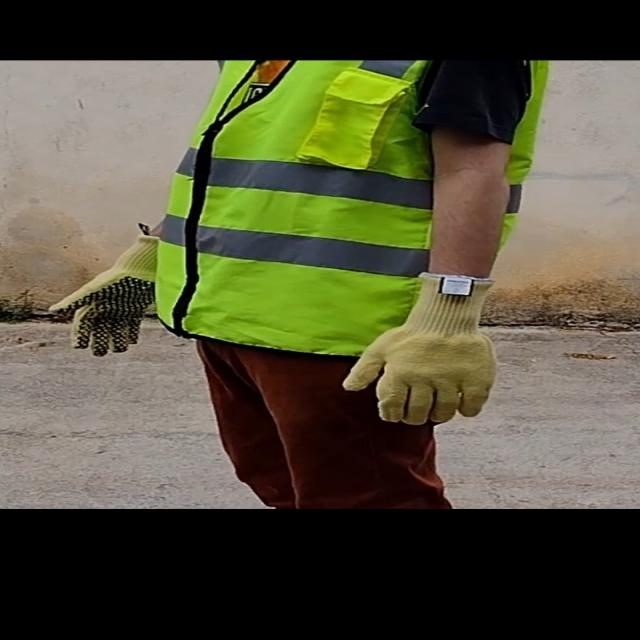glove: (344, 266, 499, 422), (43, 232, 172, 358)
pants: (194, 352, 464, 506)
vest: (160, 61, 553, 352)
